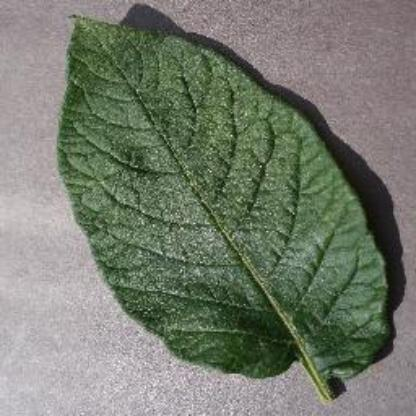Healthy-plant: (49, 10, 395, 400)
